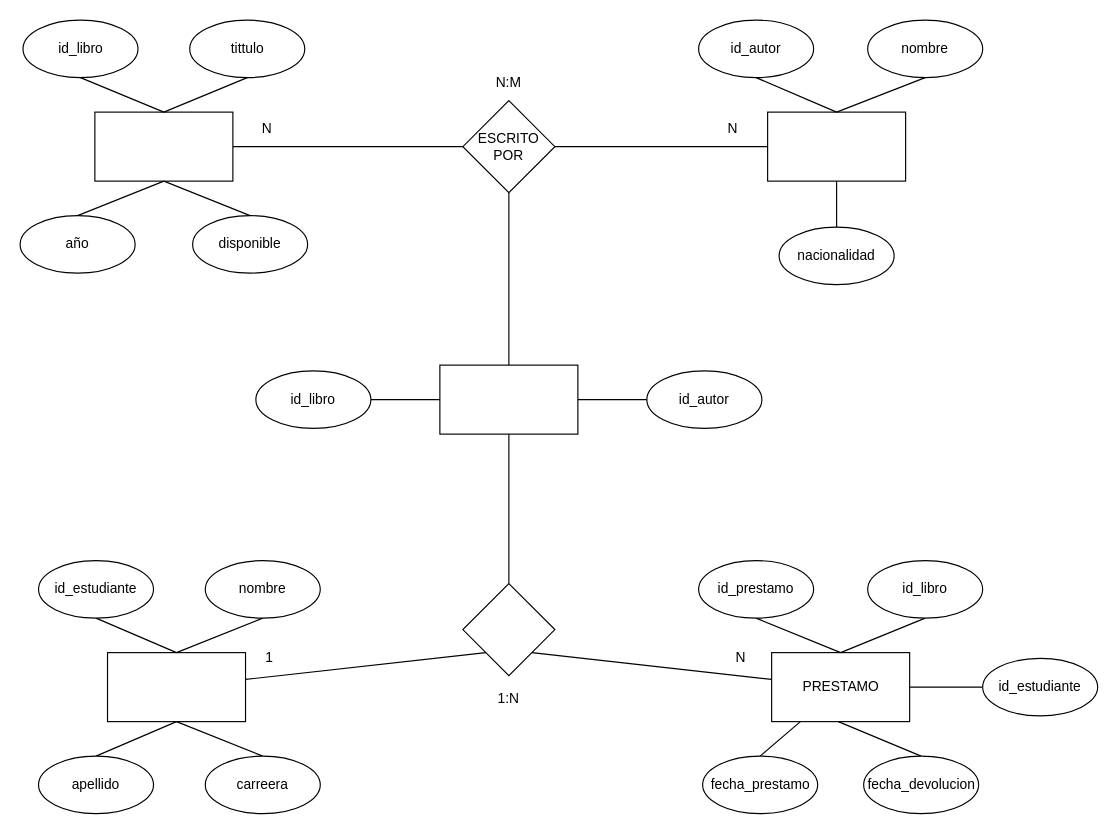
Some shapes in this 1118 by 834 pixel diagram are drawn without their labels. Each missing label, with the centre of its shape:
"AUTOR" belongs at [836,146].
"ESTUDIIANTE" belongs at [176,686].
"LIBRO" belongs at [163,146].
"LIBRO_AUTOR" belongs at [508,399].
"REALIZA" belongs at [508,629].
